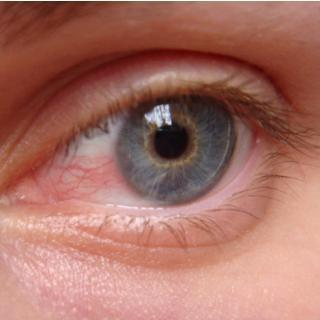iris: (119, 82, 239, 202)
